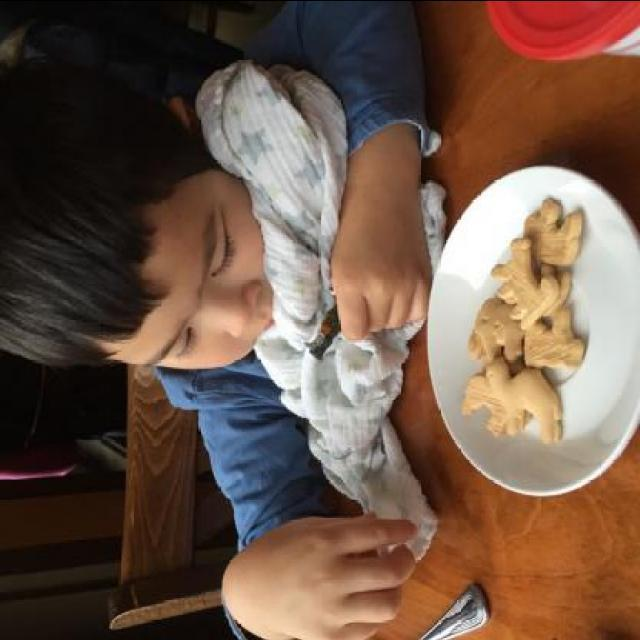Cookie: (459, 197, 581, 446)
